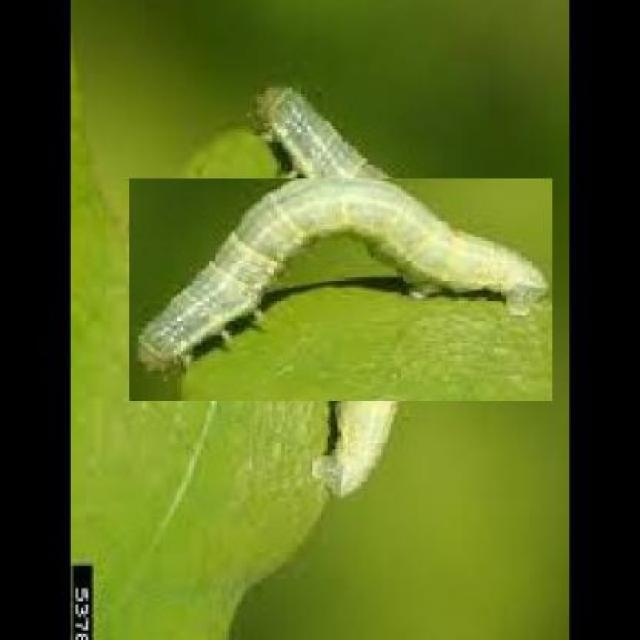Plaga: (178, 128, 502, 452)
